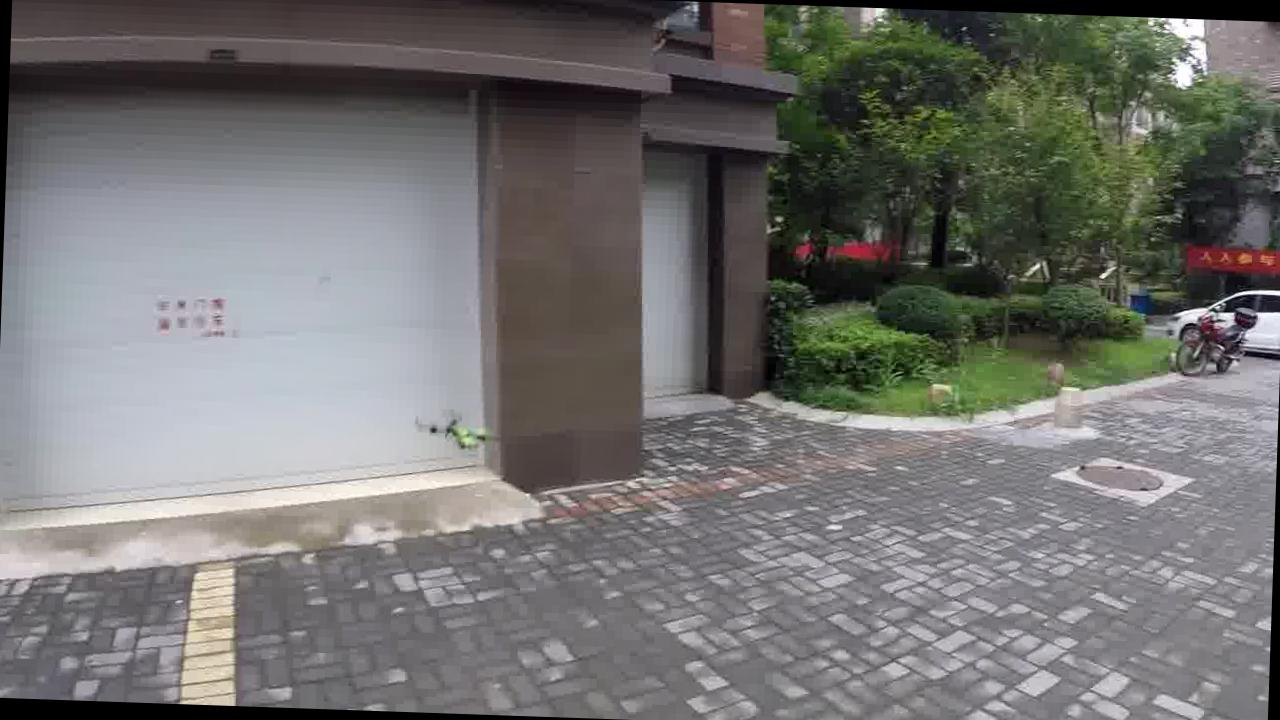drone: (428, 402, 494, 454)
